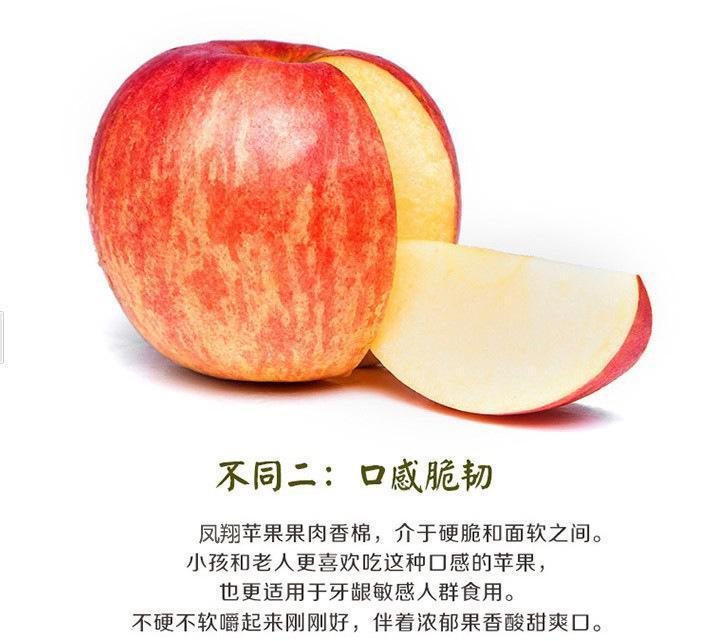apple: (86, 36, 464, 383)
